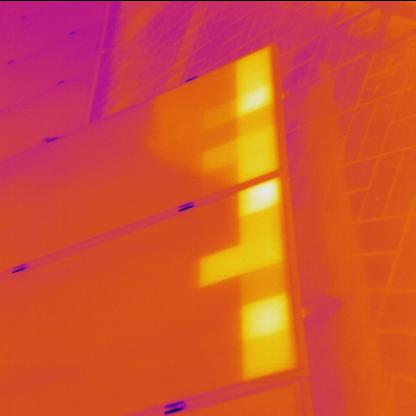hotspot: (240, 294, 290, 340), (236, 180, 282, 218), (237, 136, 279, 174), (240, 235, 284, 266), (199, 250, 237, 284), (235, 87, 277, 113)
